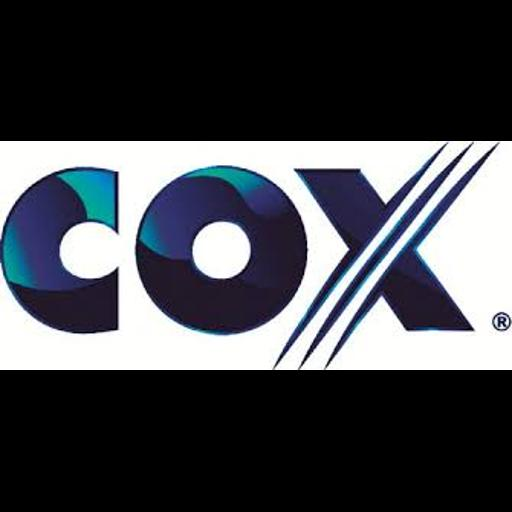Cox Communications: (0, 141, 512, 370)
